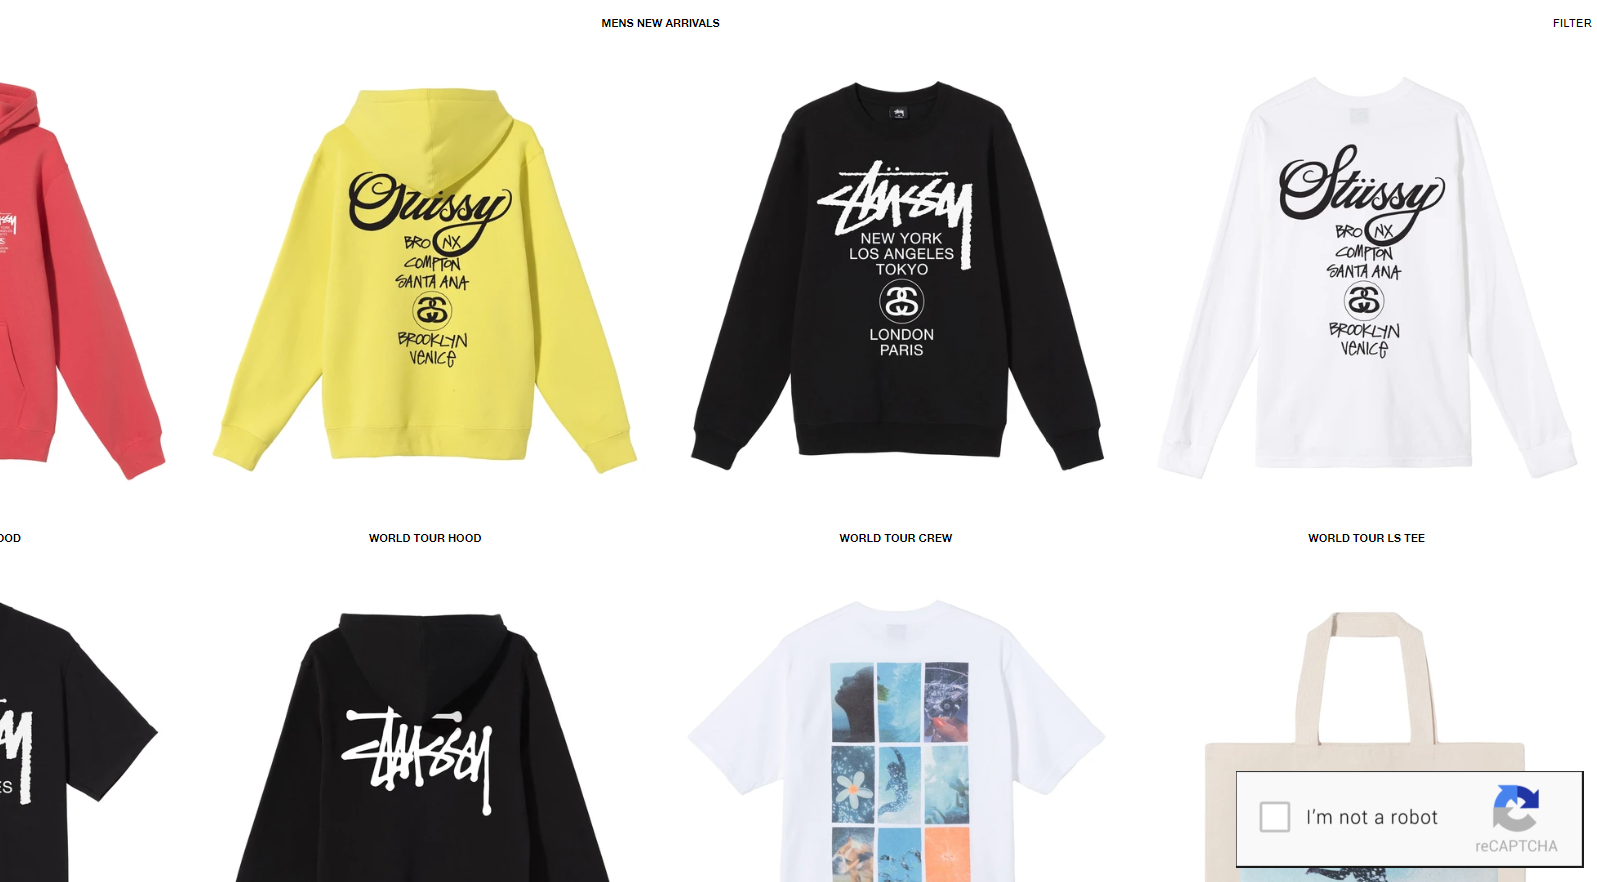captcha: (1227, 765, 1597, 873)
